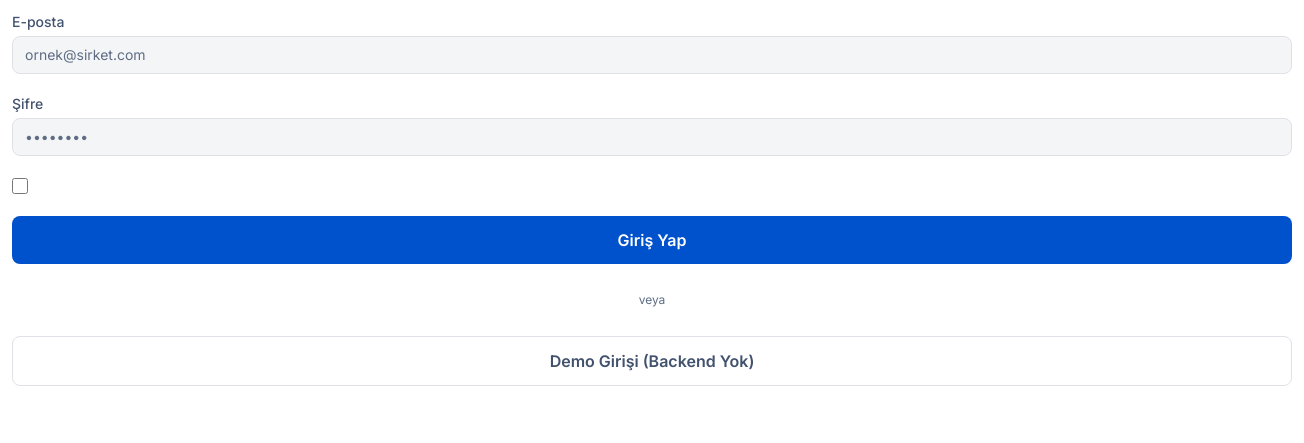
it: LoginForm › shows validation errors for empty fields
Click the button "Giriş Yap". click: (652, 240)
box: [12,216,1292,264]
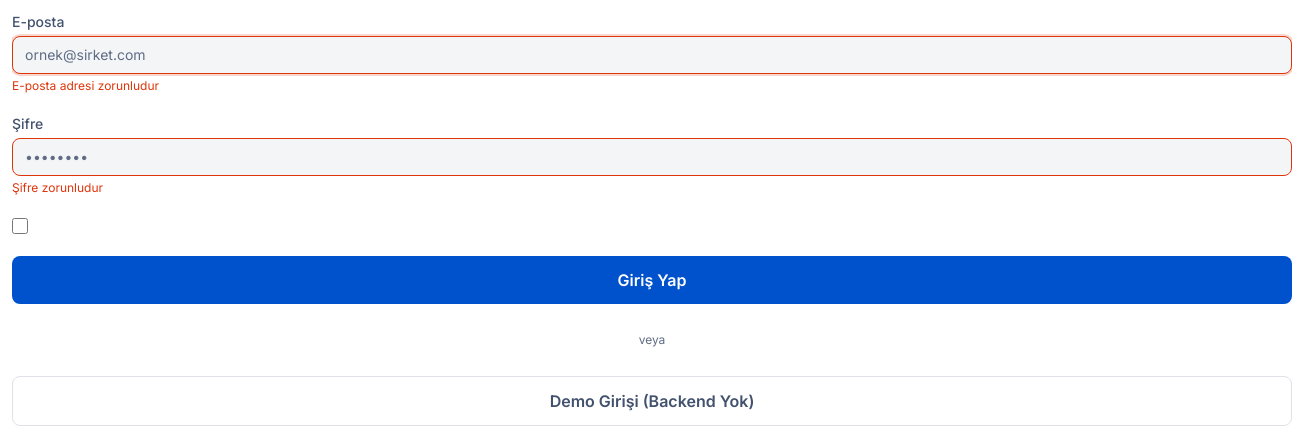
Check: the text "E-posta adresi zorunludur" is shown, box [12,78,159,93]
Check: the text "Şifre zorunludur" is shown, box [12,180,103,195]
